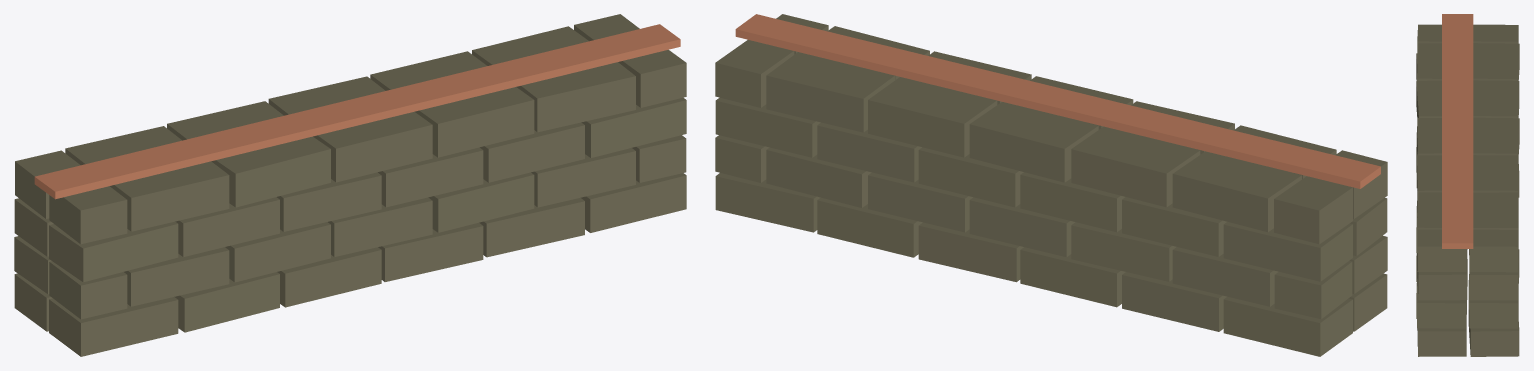
File: SM_PretilTramo_v3_Tablon_e0_Sano_LOD0.fbx
3 renders of one model, left to right at view 1: azimuth 30°, elevation 25°; view 2: azimuth 150°, elevation 25°; view 3: azimuth 270°, elevation 25°, orthographic. The views are drawn at different scales.
Parts seen in each view (by area): view 1: SM_pretil_azotea_v12_LOD0; view 2: SM_pretil_azotea_v12_LOD0; view 3: SM_pretil_azotea_v12_LOD0.
Part boxes in pixels (left/top/right/bottom): SM_pretil_azotea_v12_LOD0: left=14, top=14, right=686, bottom=356; SM_pretil_azotea_v12_LOD0: left=715, top=14, right=1387, bottom=356; SM_pretil_azotea_v12_LOD0: left=1416, top=14, right=1519, bottom=356.
Bounding box in the file's own units: 5.23 × 1.24 × 0.9936.
